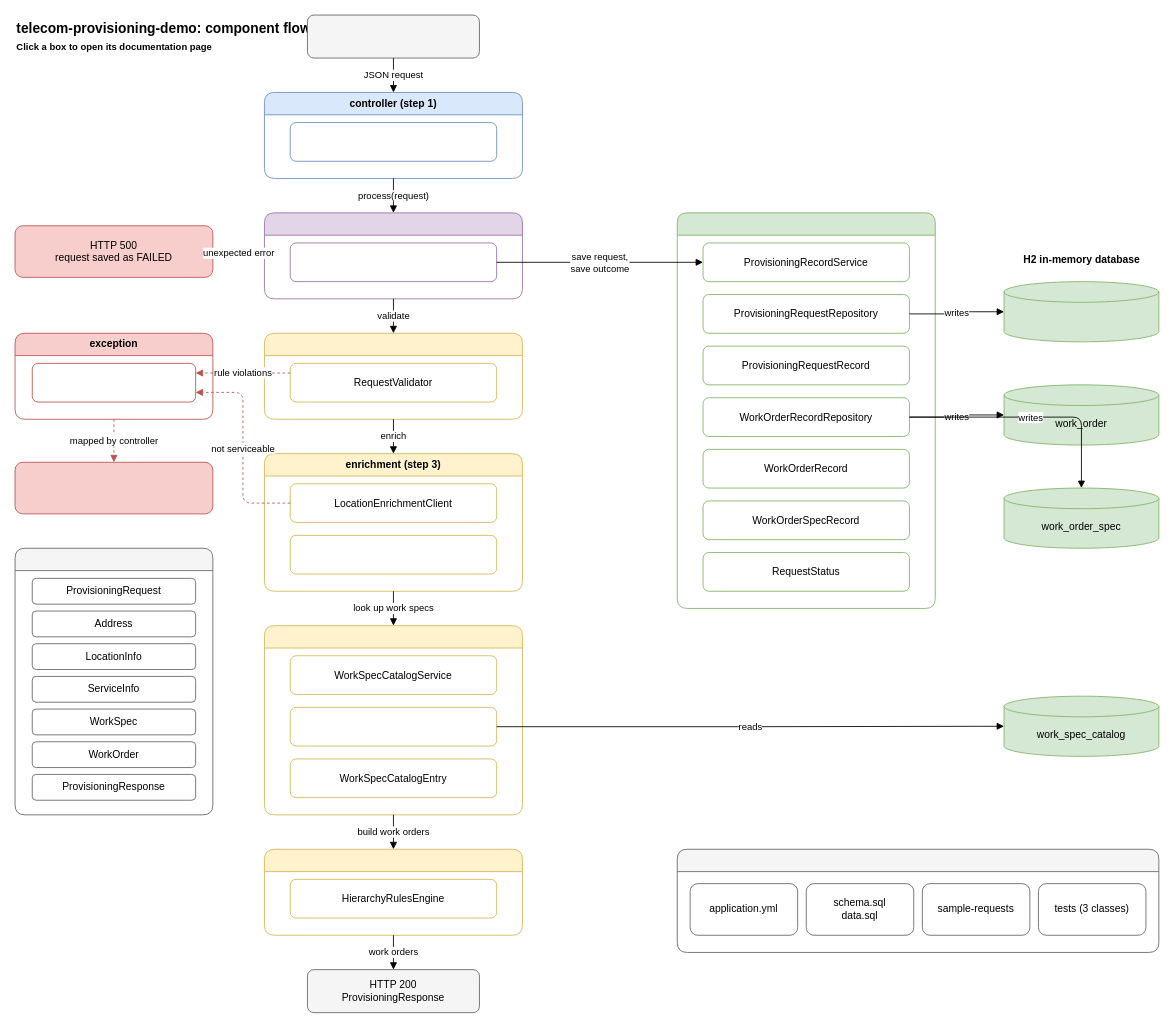
The diagram is 1174 pixels wide and 1028 high, and some of its shapes have lost their labels. Each missing label, with the box of its shape:
catalog (step 4): (264, 625, 522, 815)
HTTP 400 VALIDATION_FAILED request saved as REJECTED: (14, 461, 213, 514)
HTTP client POST /api/provisioning/process: (307, 14, 479, 58)
model (used by every stage): (14, 547, 213, 815)
persistence: (676, 212, 935, 608)
provisioning_request: (1003, 281, 1159, 342)
ProvisioningController: (289, 122, 497, 161)
ProvisioningOrchestrator: (289, 242, 497, 282)
rules (step 5): (264, 848, 522, 935)
service: (264, 212, 522, 299)
ServiceEnrichmentClient: (289, 534, 497, 574)
supporting files: (676, 848, 1159, 952)
validation (step 2): (264, 332, 522, 419)
ValidationException: (31, 362, 196, 402)
WorkSpecCatalogRepository: (289, 706, 497, 746)
